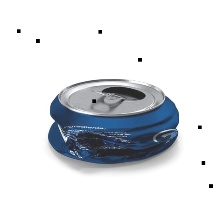can: (36, 73, 187, 168)
